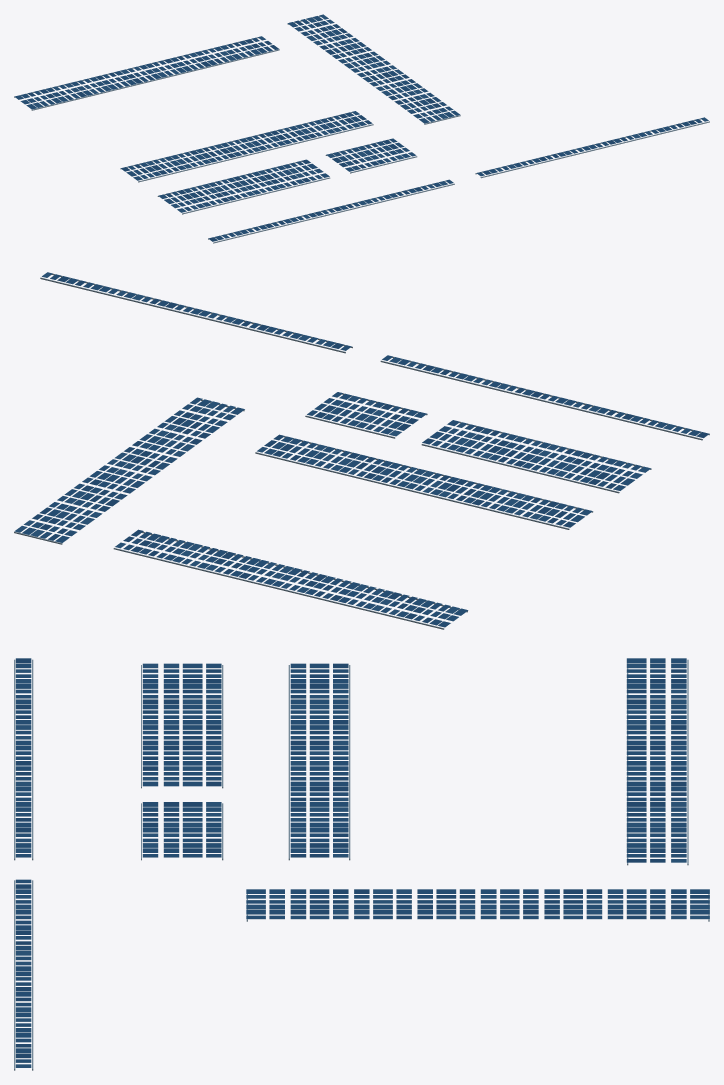
File: SM_MPRH_SolarBank_02_1_LOD1.fbx
The picture shows the model from 3 angles, top to bottom: view 1: azimuth 30°, elevation 25°; view 2: azimuth 150°, elevation 25°; view 3: azimuth 270°, elevation 25°; orthographic projection. The views are drawn at different scales.
Parts seen in each view (by area): view 1: SM_MPRH_SolarBank_02_1_LOD1; view 2: SM_MPRH_SolarBank_02_1_LOD1; view 3: SM_MPRH_SolarBank_02_1_LOD1.
Boxes of the visible parts, <box> form: SM_MPRH_SolarBank_02_1_LOD1: <box>14,14,709,243</box>; SM_MPRH_SolarBank_02_1_LOD1: <box>14,272,709,629</box>; SM_MPRH_SolarBank_02_1_LOD1: <box>14,658,709,1070</box>.
Bounding box in the file's own units: 8944 × 6420 × 24.6.
